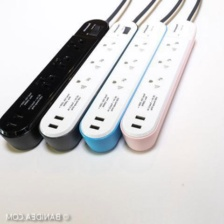three_eye_plug: (0, 17, 110, 153), (36, 17, 141, 154), (77, 18, 168, 154), (118, 17, 200, 157)
